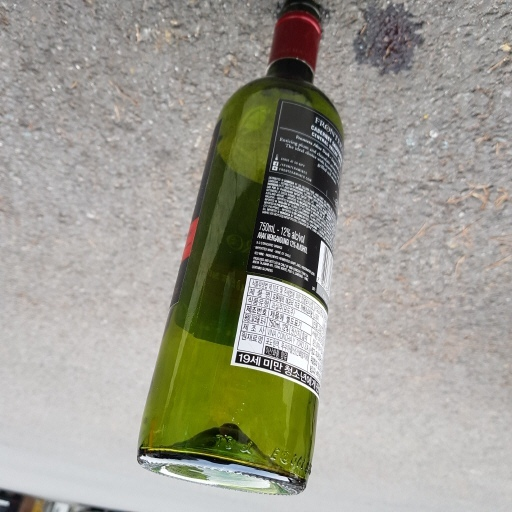Glass_2: (138, 7, 345, 498)
